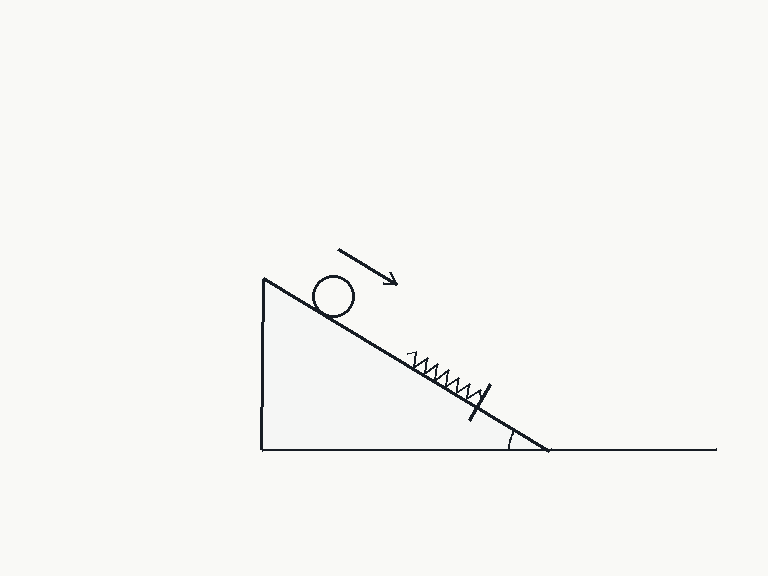ball: (310, 273, 356, 319)
ramp: (260, 275, 551, 452)
spring: (405, 350, 484, 401)
